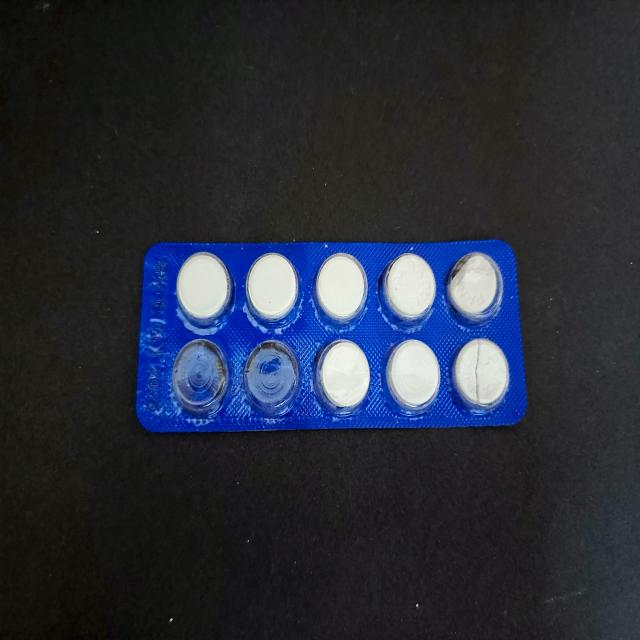defect: (449, 334, 513, 417), (241, 336, 304, 418), (170, 336, 233, 417), (444, 248, 506, 330)
